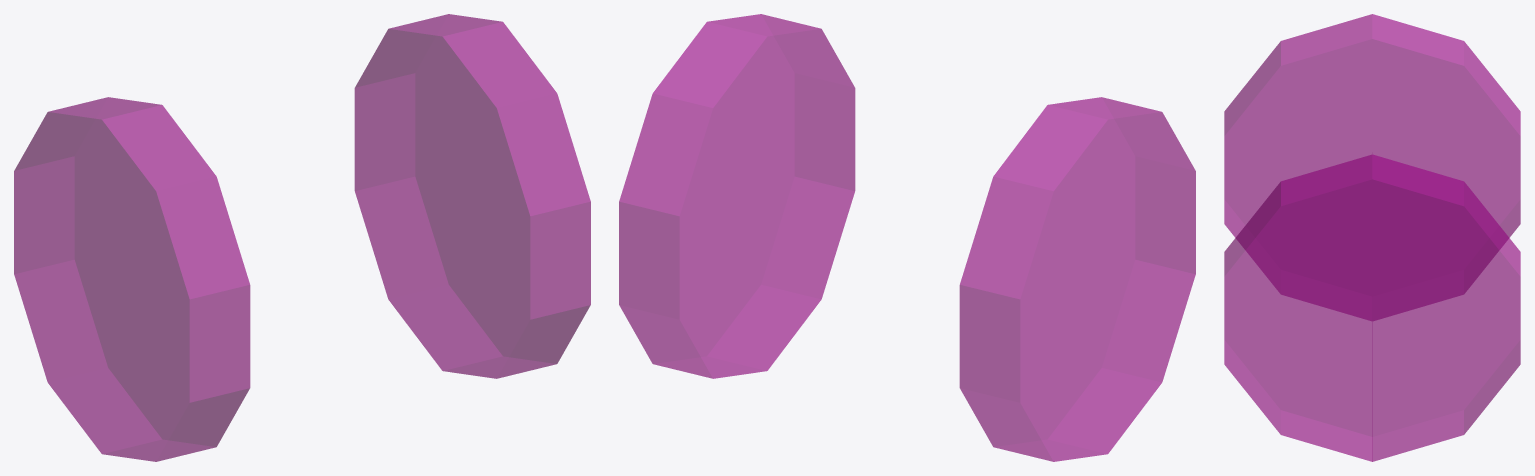
Rendered from SM_Prop_Cart_Candyfloss_Wheels_01_Collision.fbx.
3 views of the same model, side by side, from view 1: azimuth 30°, elevation 25°; view 2: azimuth 150°, elevation 25°; view 3: azimuth 270°, elevation 25° (orthographic). The views are drawn at different scales.
Parts seen in each view (by area): view 1: SM_Prop_Cart_Candyfloss_Wheels_01_Collision; view 2: SM_Prop_Cart_Candyfloss_Wheels_01_Collision; view 3: SM_Prop_Cart_Candyfloss_Wheels_01_Collision.
Part boxes in pixels (<box>): SM_Prop_Cart_Candyfloss_Wheels_01_Collision: <box>14,14,590,461</box>; SM_Prop_Cart_Candyfloss_Wheels_01_Collision: <box>619,14,1195,461</box>; SM_Prop_Cart_Candyfloss_Wheels_01_Collision: <box>1224,14,1520,461</box>.
Size of the model in its own units: 100 by 80.07 by 76.16.
